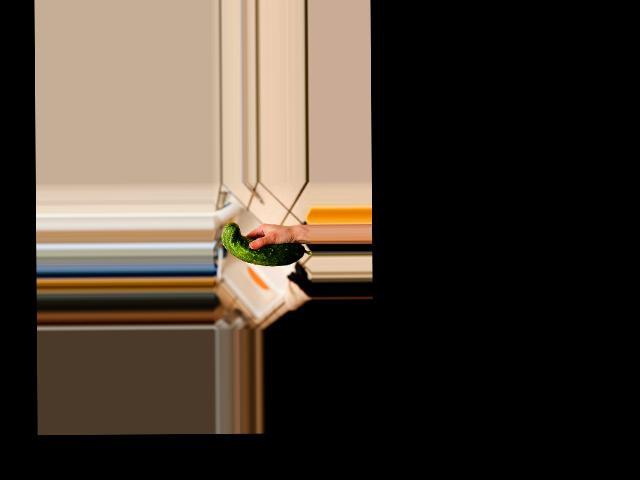cucumber: (221, 222, 311, 267)
